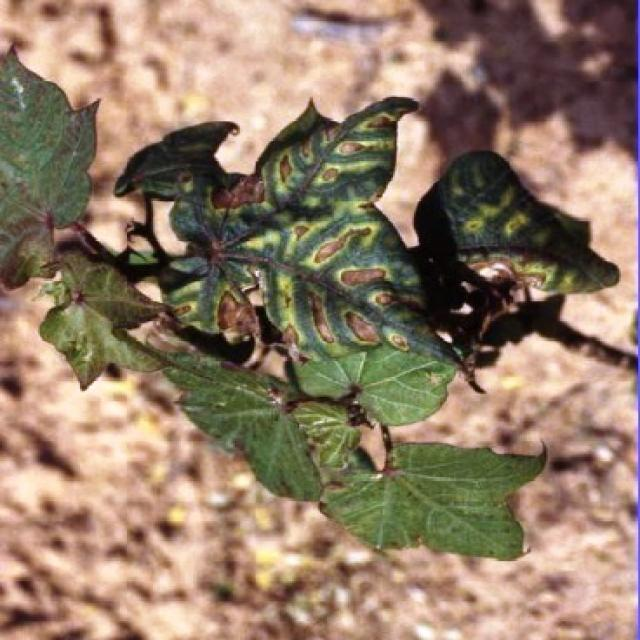Fusarium Wilt: (0, 30, 615, 562)
